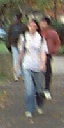person: (19, 18, 48, 116)
